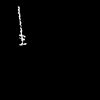treble_crochet: (18, 7, 25, 44)
